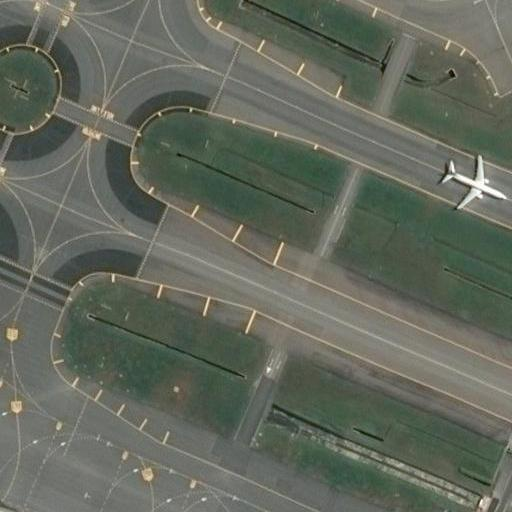Aircraft: (439, 153, 508, 213)
